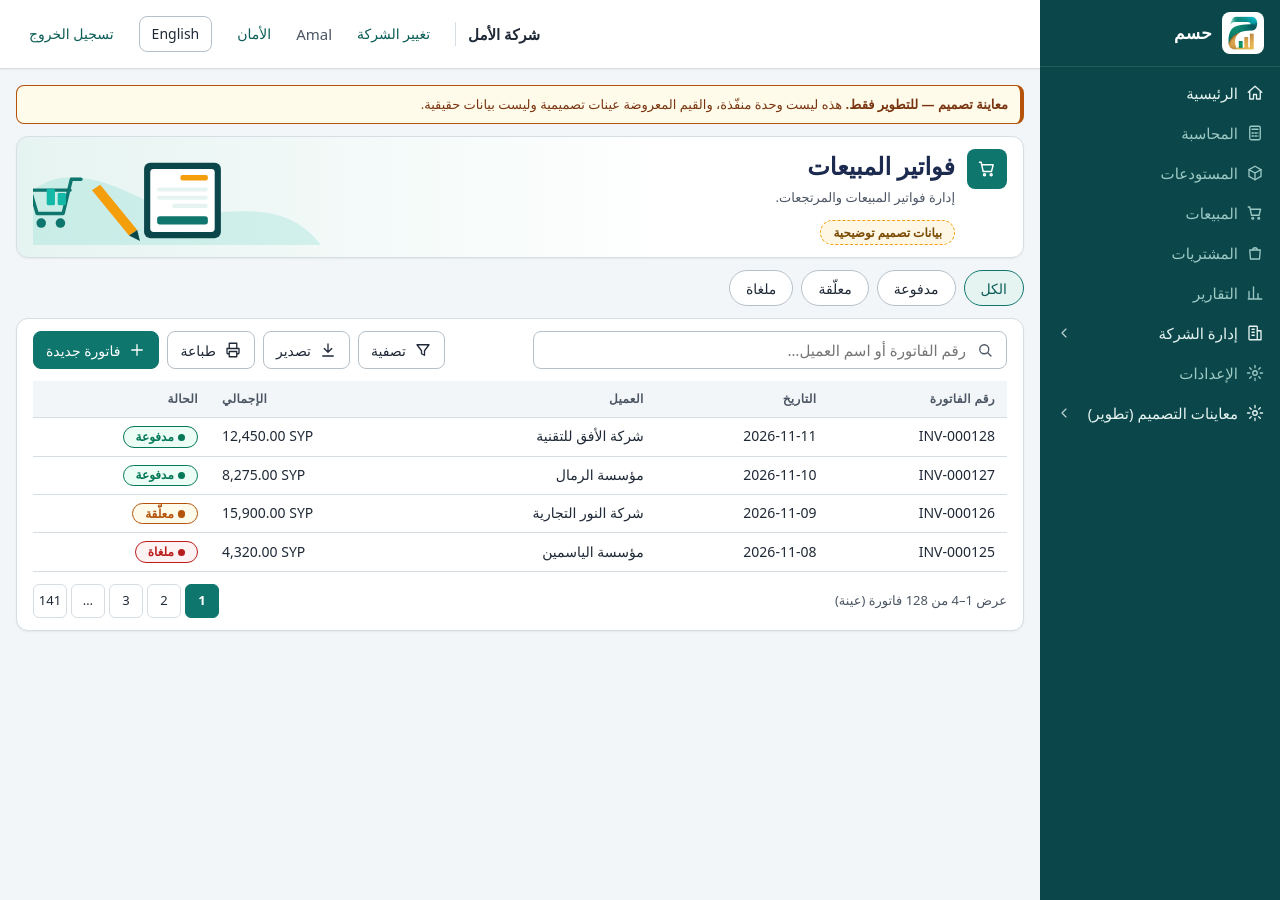
Test case: development-only design previews › render the sales invoice preview with identifiers and dates kept left-to-right, and keep the route when the language changes
Expected: the element with test id "company-name" is shown, [455,22,540,46]
Click the button "English". click: (175, 34)
box: [139,16,212,52]
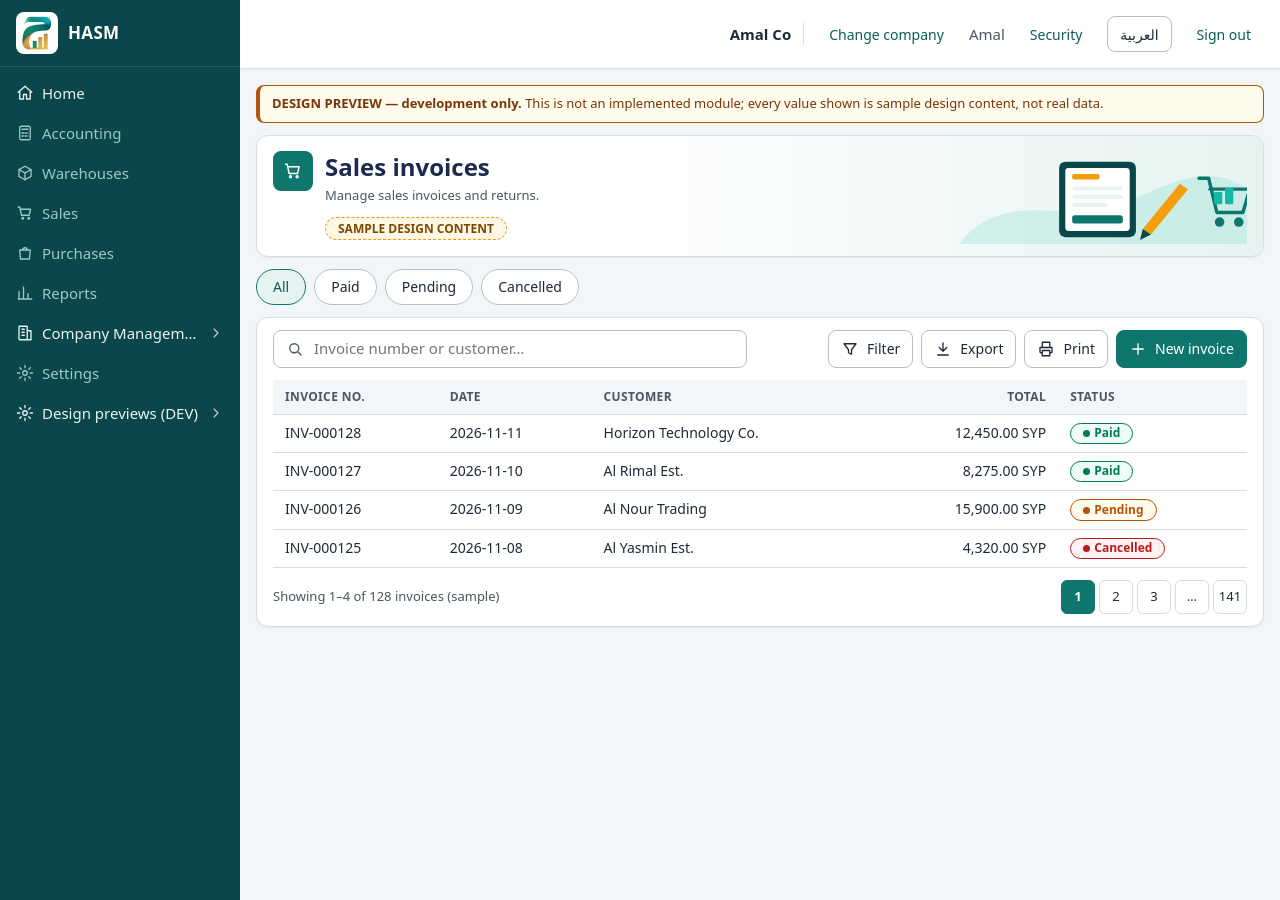
Expected: the heading "Sales invoices" is shown, [325,150,490,183]
Expected: the element with test id "company-name" reads "Amal Co", [730,24,791,44]
Expected: the message with test id "design-preview-banner" shows "DESIGN PREVIEW", [272,94,522,112]
